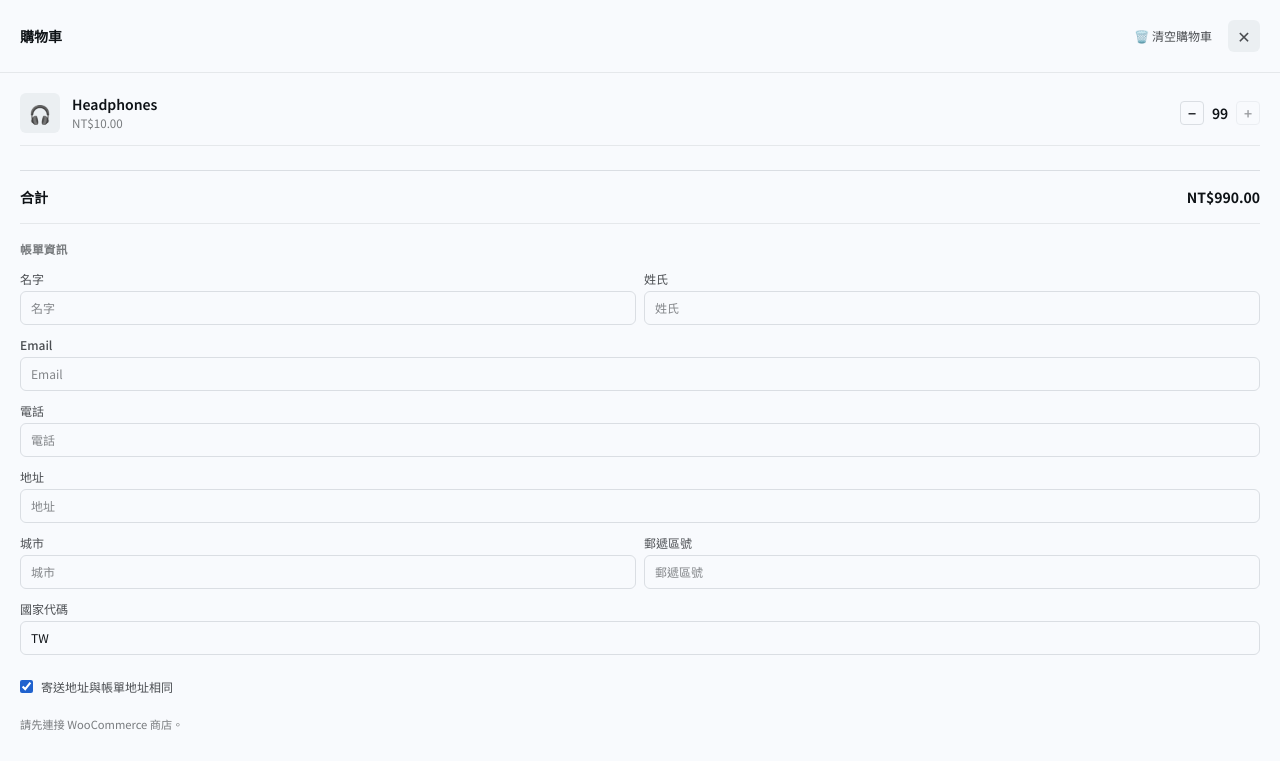
Test: CartPanel increase button at qty cap (regression #593) › keeps the decrease button enabled at the cap
The width and height of the screenshot is (1280, 761).
What coordinates should you click on to do the following:
click the button named "減少數量"
I would click on:
 (1192, 113)
Its box is top-left (1180, 101), bottom-right (1204, 125).
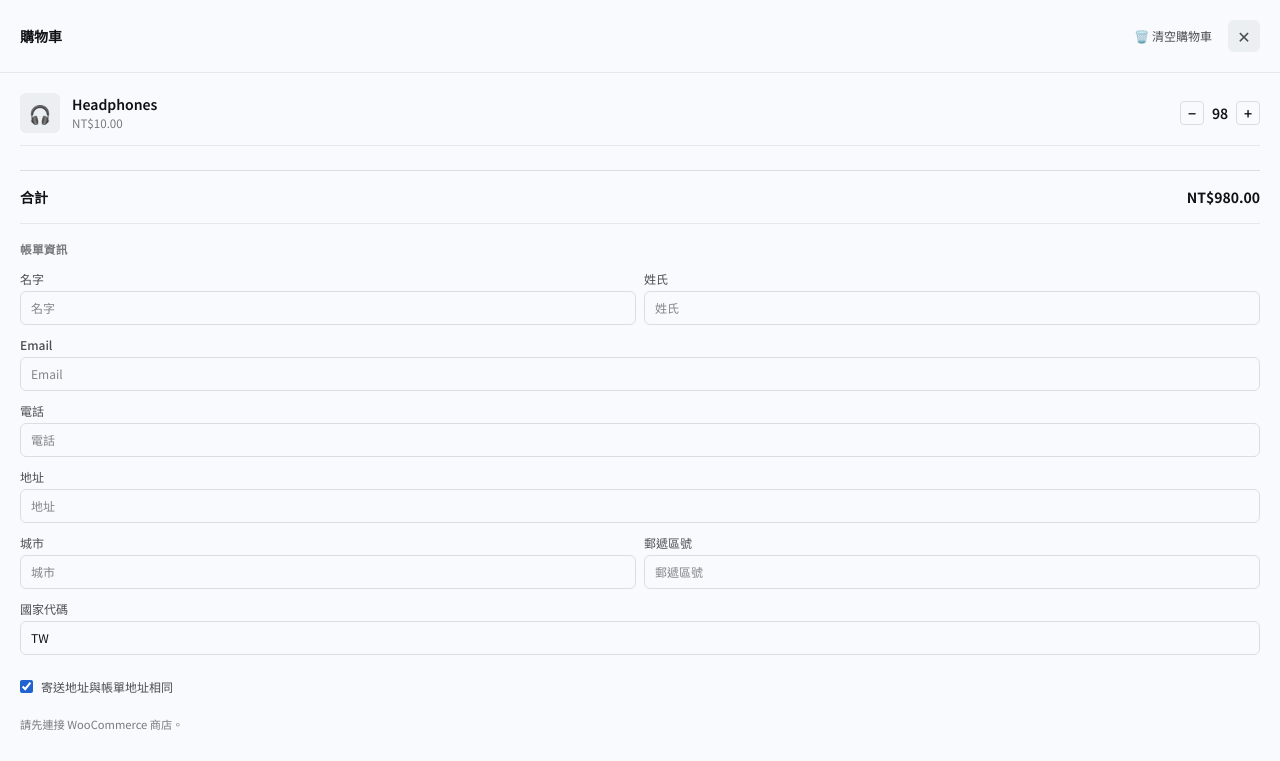
Expected: the button named "增加數量" is enabled, top-left (1236, 101), bottom-right (1260, 125)
